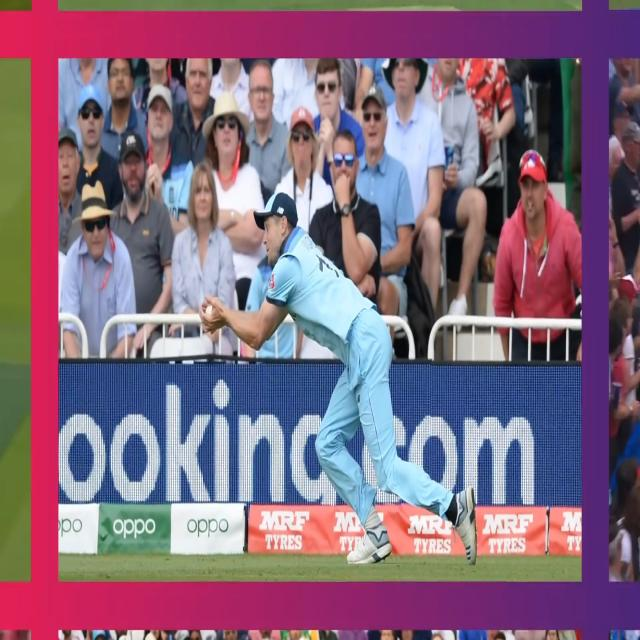ball: (201, 301, 223, 326)
